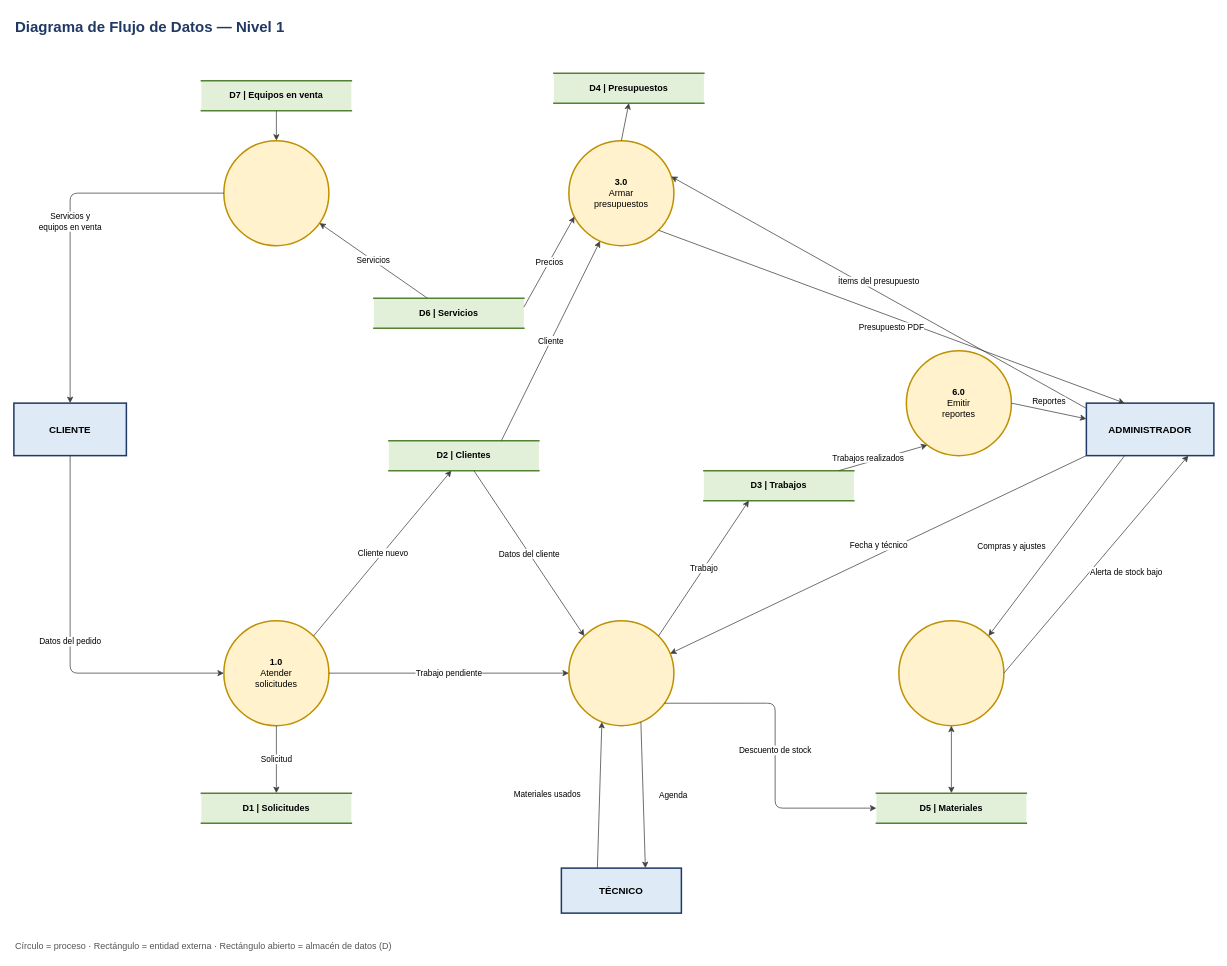
Some shapes in this 1227 by 966 pixel diagram are drawn without their labels. Each missing label, with the centre of its shape:
2.0 Gestionar trabajos: pixel 621 673
4.0 Controlar stock: pixel 951 673
5.0 Publicar catálogo: pixel 276 193
